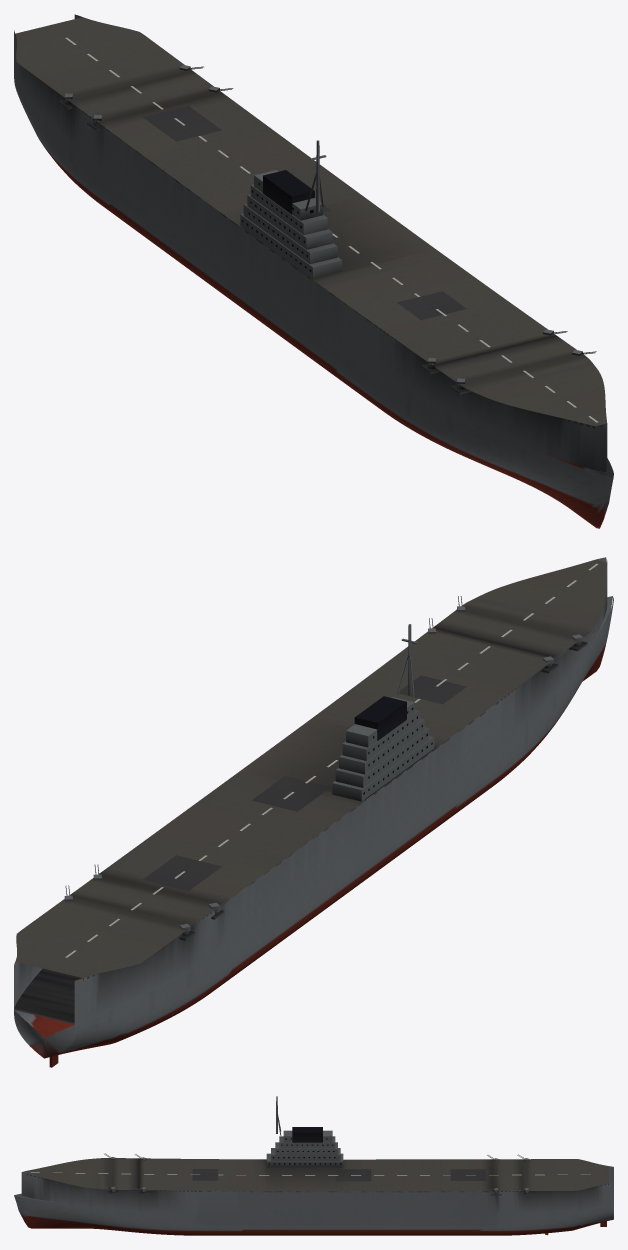
The model's file is model_built.glb.
3 renders of one model, top to bottom at view 1: azimuth 30°, elevation 25°; view 2: azimuth 150°, elevation 25°; view 3: azimuth 270°, elevation 25°, orthographic. The views are drawn at different scales.
Parts seen in each view (by area): view 1: main; view 2: main; view 3: main.
Boxes of the visible parts, <box> form: main: <box>14,14,613,528</box>; main: <box>14,557,613,1067</box>; main: <box>14,1096,613,1235</box>.
Size of the model in its own units: 33.1 by 52.1 by 235.
1 material, 1 textured.
